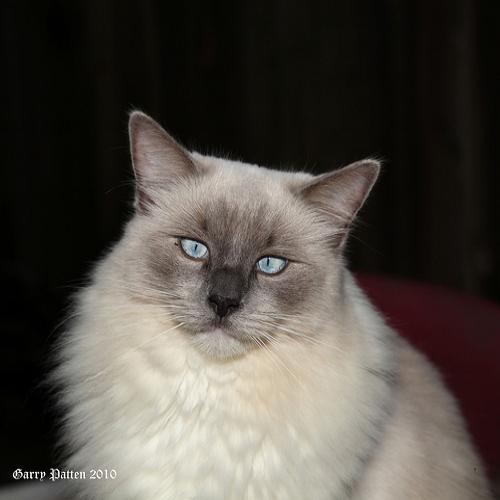ragdoll: (103, 103, 389, 378)
